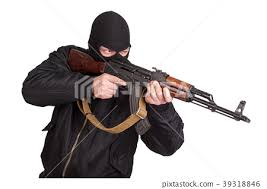gun: (64, 45, 257, 133)
